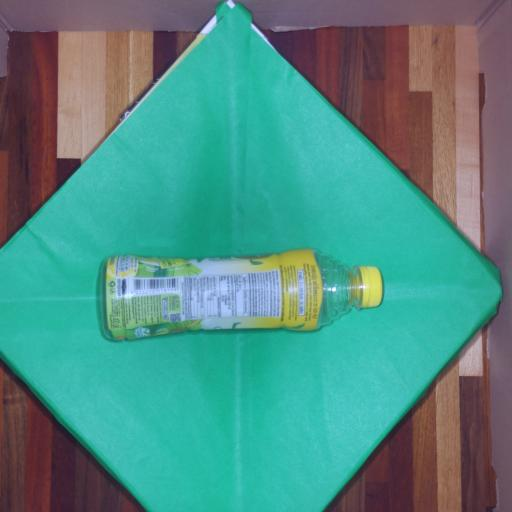bottle: (92, 242, 391, 350)
